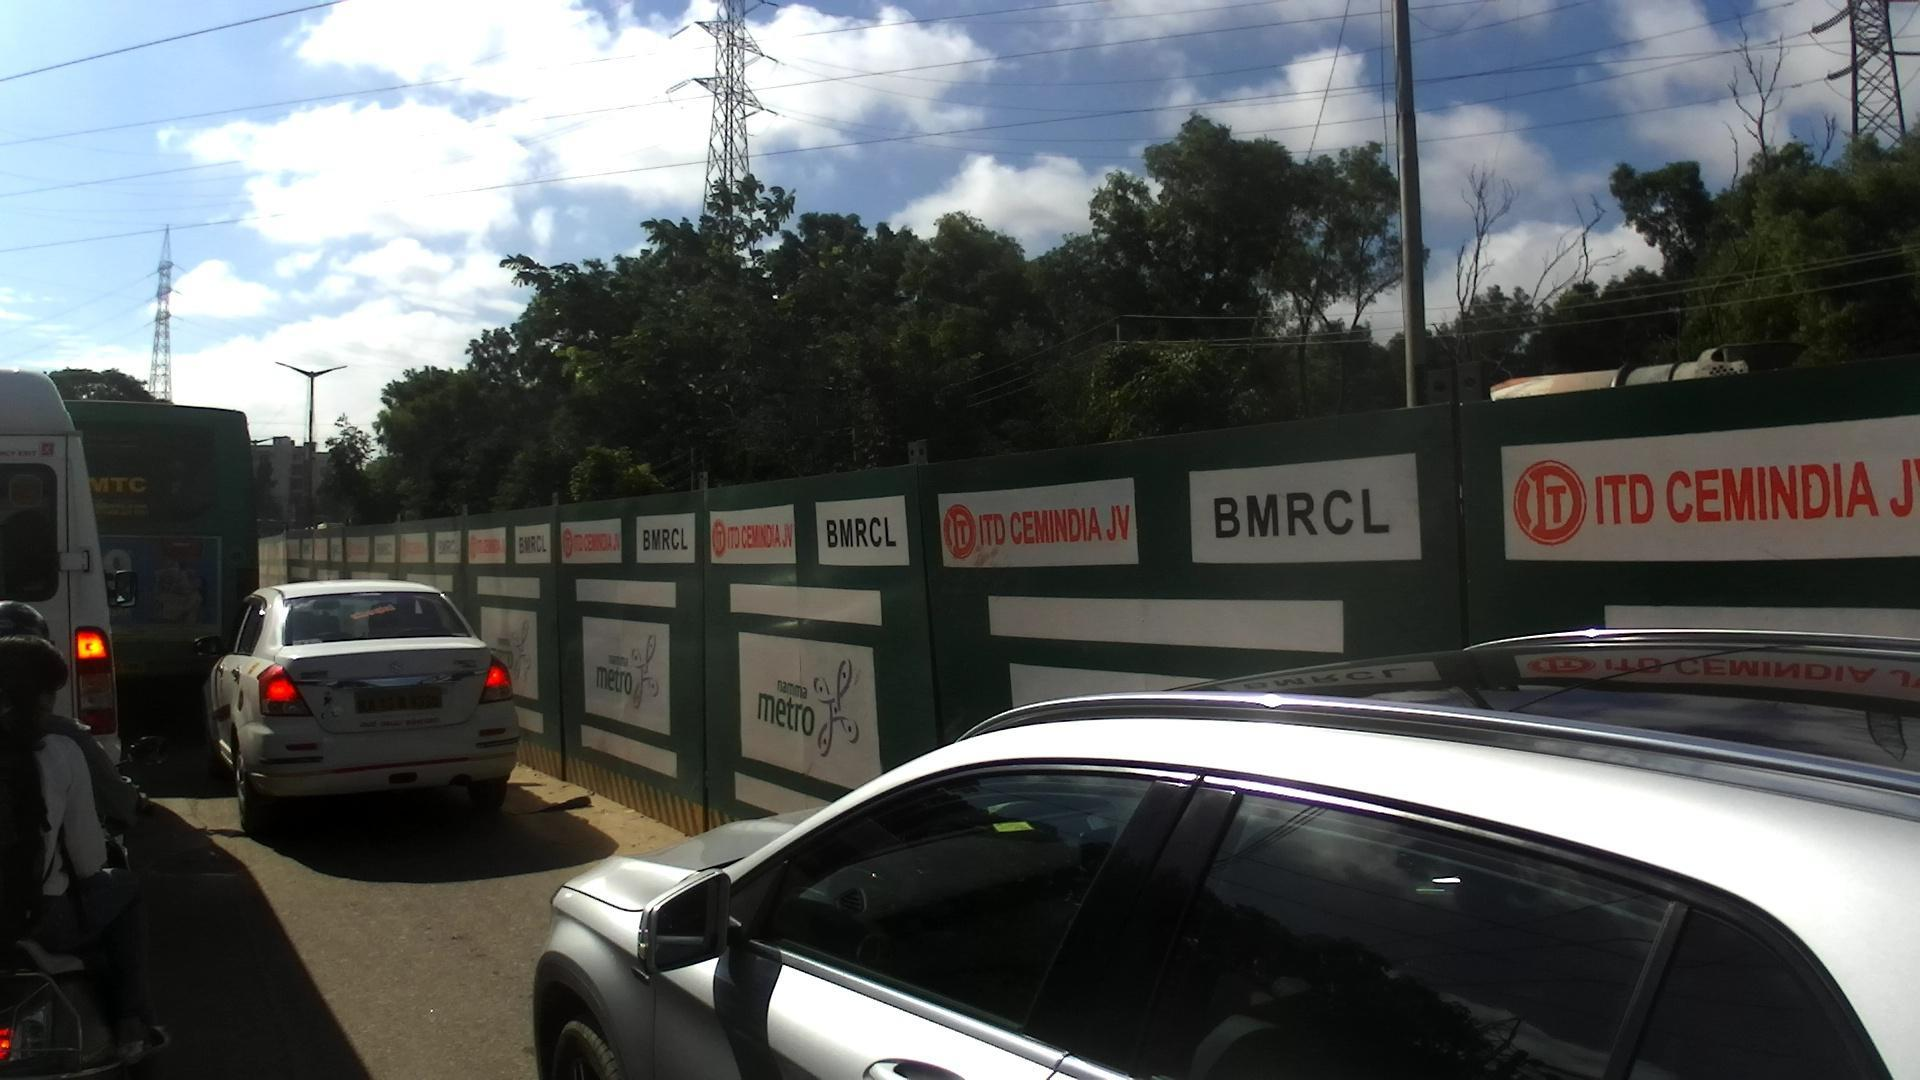off: (0, 0, 1655, 1059)
